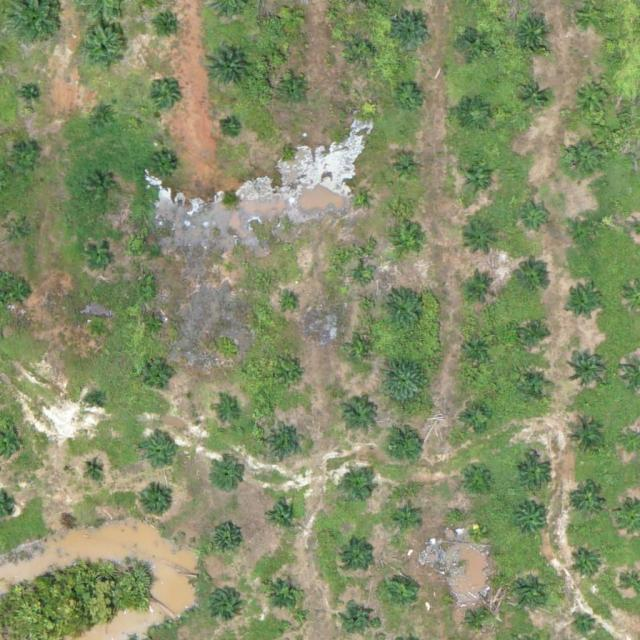Small: (77, 21, 132, 76), (380, 286, 427, 334), (382, 422, 429, 470), (382, 357, 429, 405), (206, 43, 253, 91), (463, 219, 503, 259), (562, 138, 602, 178), (511, 574, 550, 614), (566, 419, 605, 459), (338, 394, 377, 434), (516, 454, 555, 494), (137, 483, 176, 523), (265, 572, 304, 612), (140, 432, 179, 472), (393, 12, 432, 52), (513, 262, 552, 302), (566, 286, 605, 325), (568, 347, 607, 386), (514, 504, 553, 543), (266, 423, 305, 462), (515, 15, 554, 54), (574, 78, 613, 117), (6, 277, 37, 309), (213, 460, 244, 492), (211, 523, 242, 555), (268, 501, 299, 533), (144, 358, 175, 390), (460, 99, 491, 131), (459, 26, 490, 58), (347, 36, 378, 68), (277, 2, 308, 34), (395, 81, 426, 113), (518, 81, 549, 113), (572, 214, 603, 246), (521, 200, 552, 232), (463, 164, 494, 196), (343, 601, 374, 632), (345, 473, 376, 504), (343, 541, 374, 572), (461, 462, 492, 493), (461, 402, 492, 433), (575, 484, 606, 515), (385, 576, 416, 607), (209, 588, 240, 619), (394, 228, 425, 259), (464, 603, 495, 634), (281, 78, 312, 109), (520, 318, 551, 349), (521, 371, 552, 402), (462, 331, 493, 362), (465, 271, 496, 302), (391, 155, 422, 186), (571, 549, 602, 580), (149, 81, 180, 112), (151, 153, 182, 184), (86, 240, 117, 271), (86, 173, 117, 204), (91, 101, 122, 132), (11, 145, 42, 176), (394, 507, 418, 531), (214, 401, 238, 425), (573, 612, 597, 636), (280, 365, 303, 389), (84, 458, 107, 482), (87, 318, 111, 341), (8, 221, 32, 244), (145, 314, 168, 338), (356, 343, 372, 359), (224, 121, 239, 137), (282, 144, 297, 160), (469, 525, 485, 540), (223, 262, 238, 278), (352, 190, 367, 205), (355, 270, 370, 285), (282, 297, 297, 312), (88, 394, 103, 409), (23, 87, 38, 102), (162, 18, 177, 33)
